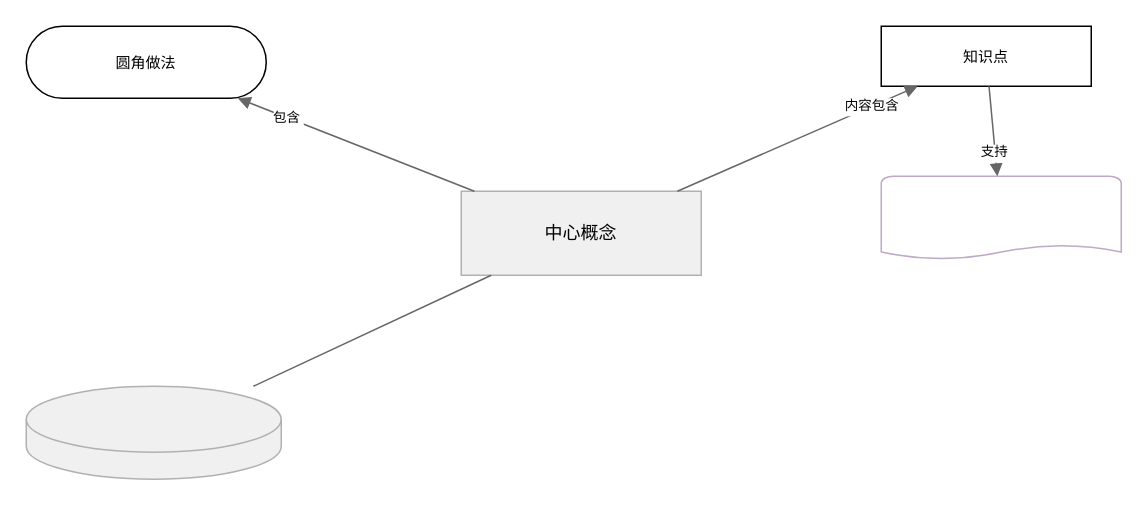
Image size: 1148x506. Some labels were removed from this diagram. Each missing label, with the centre of its shape:
"官方手册" belongs at point 153,432.
"示例案例 第二行" belongs at point 1000,217.
